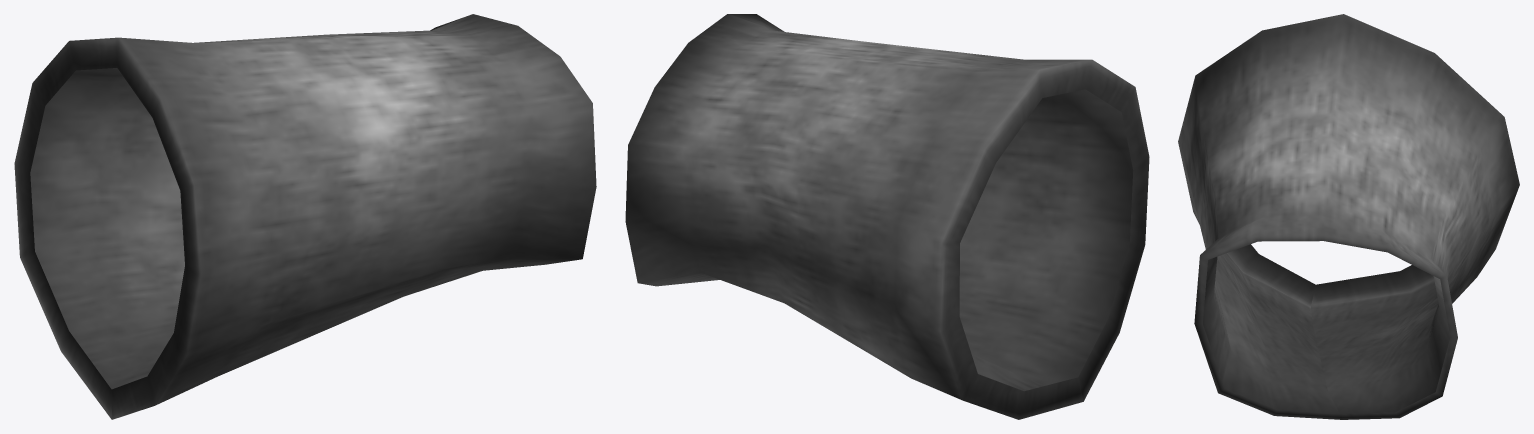
The model's file is LAS_1_Lower-arm_L.obj.
3 renders of one model, left to right at view 1: azimuth 30°, elevation 25°; view 2: azimuth 150°, elevation 25°; view 3: azimuth 270°, elevation 25°, orthographic. The views are drawn at different scales.
Visible parts, largest first — view 1: Knight.019_proxy741.obj.017; view 2: Knight.019_proxy741.obj.017; view 3: Knight.019_proxy741.obj.017.
Boxes of the visible parts, x1,y1,x2,y2 form: Knight.019_proxy741.obj.017: (14,14,596,419); Knight.019_proxy741.obj.017: (625,14,1149,419); Knight.019_proxy741.obj.017: (1178,14,1519,419).
Bounding box in the file's own units: 0.1935 × 0.1609 × 0.1643.
